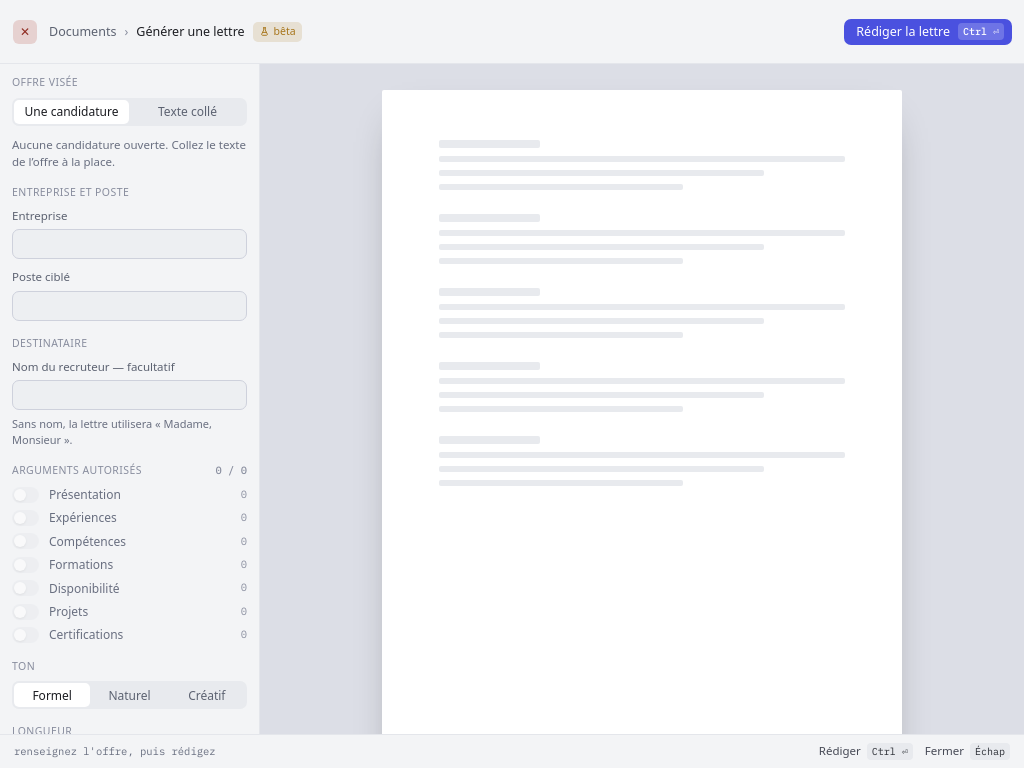
Test: feuille de la lettre avant rédaction › montre une feuille neutre, puis l'éditeur si l'on écrit soi-même
The width and height of the screenshot is (1024, 768).
Click the tab "Texte collé": click(188, 112) [130,100,245,124]
(page scrolled)
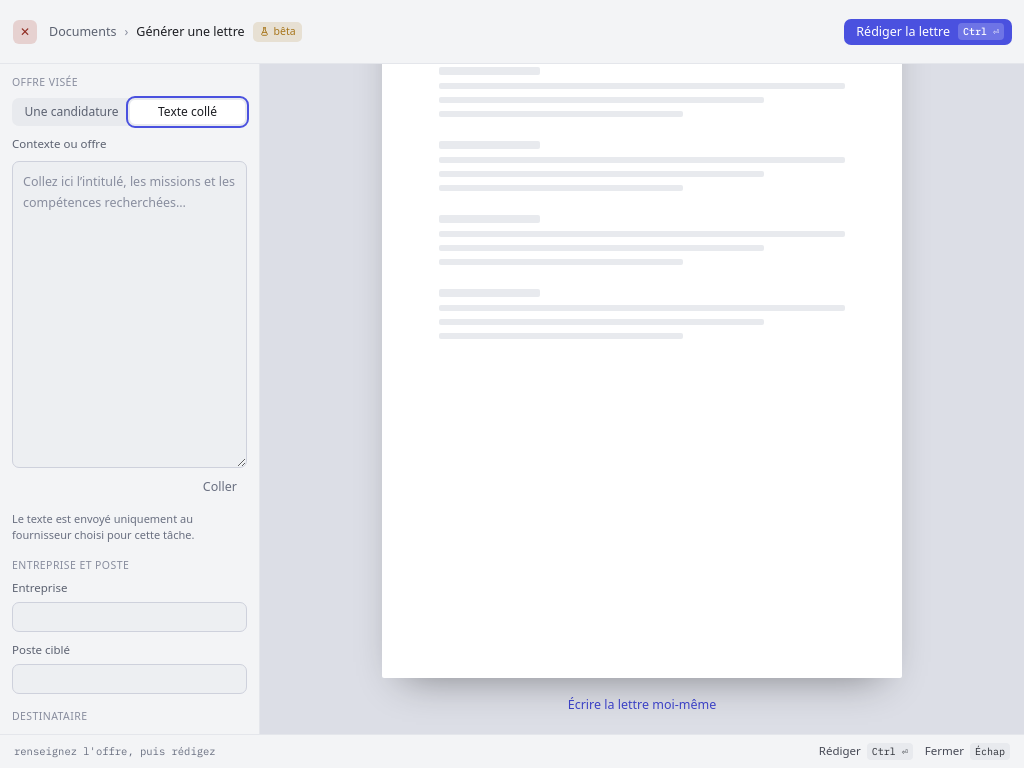
Click the button "Écrire la lettre moi-même": click(642, 705) [568,696,716,714]
(page scrolled)
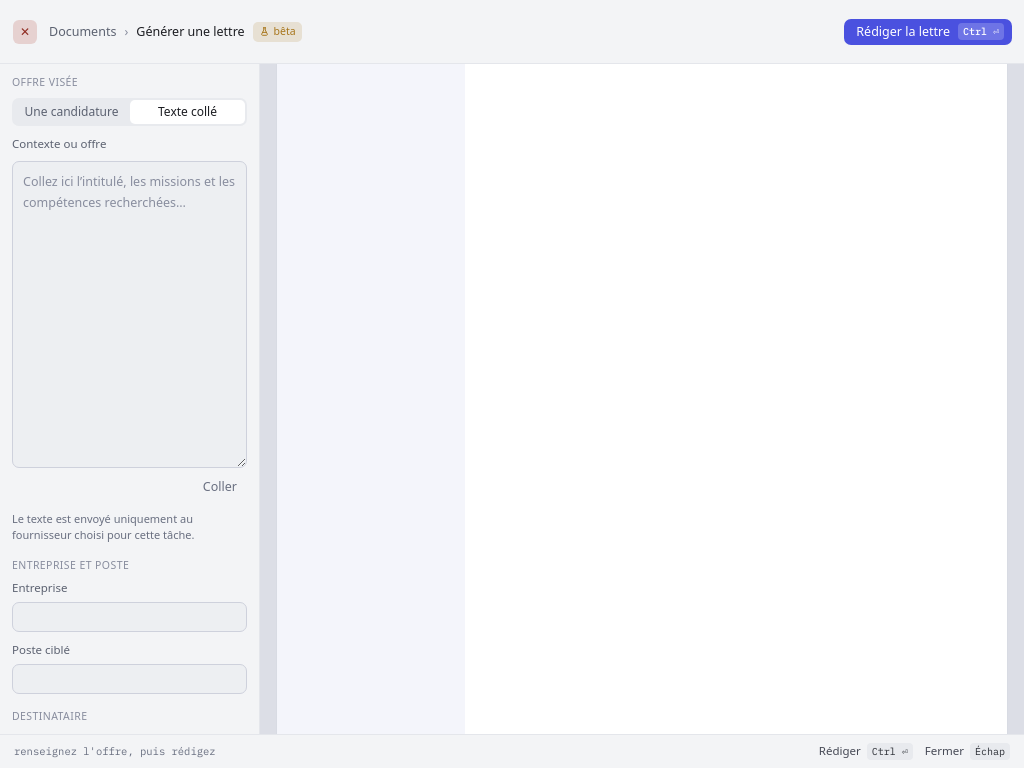
Now the field named "Contenu de la lettre" is shown, box [518,64,970,734]
